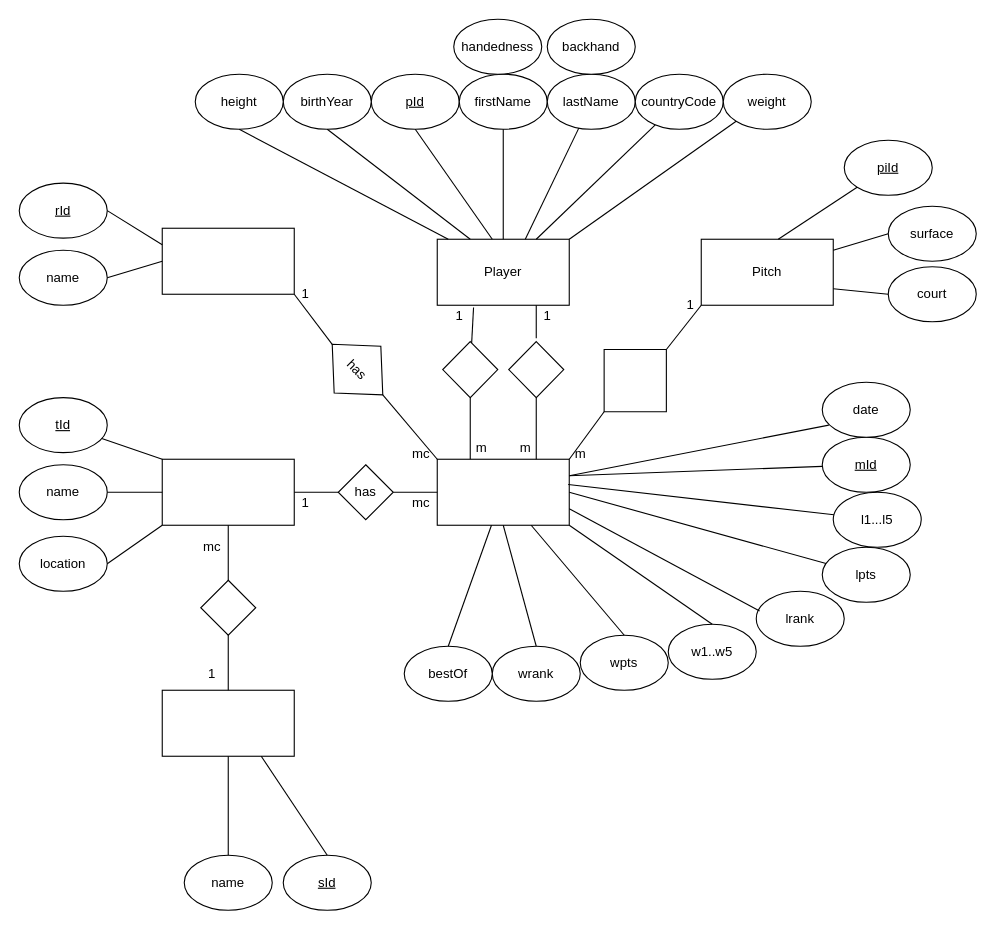
The diagram is 996 pixels wide and 930 high, and some of its shapes have lost their labels. The centre of each missing label's shape, as x and y in pixels:
"belongs" goes at (228,607).
"loses" goes at (470,369).
"Matches" goes at (502,491).
"played-out" goes at (635,380).
"Round" goes at (227,260).
"Series" goes at (227,722).
"Tournament" goes at (227,491).
"wins" goes at (536,369).
